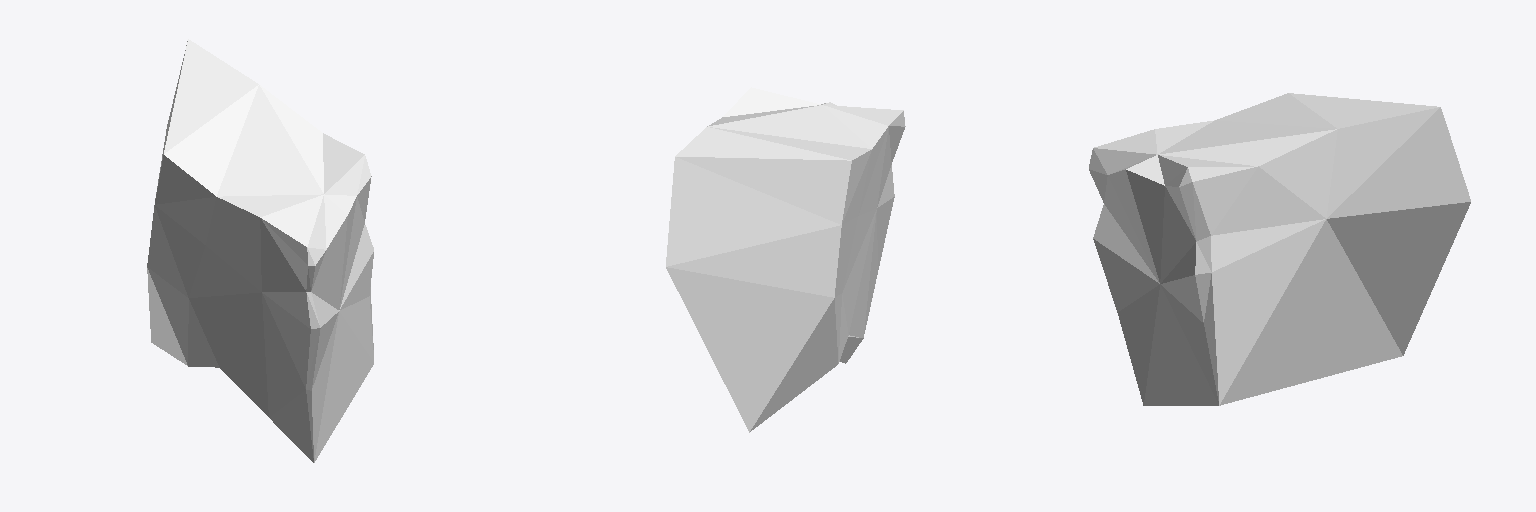
The model's file is piece5.obj.
3 views of the same model, side by side, from view 1: azimuth 30°, elevation 25°; view 2: azimuth 150°, elevation 25°; view 3: azimuth 270°, elevation 25° (orthographic).
Visible parts, largest first — view 1: mesh0063; view 2: mesh0063; view 3: mesh0063.
Boxes of the visible parts, <box> form: mesh0063: <box>147,39,373,462</box>; mesh0063: <box>666,87,905,432</box>; mesh0063: <box>1089,93,1470,405</box>.
Bounding box in the file's own units: 0.5748 × 0.9669 × 1.08.